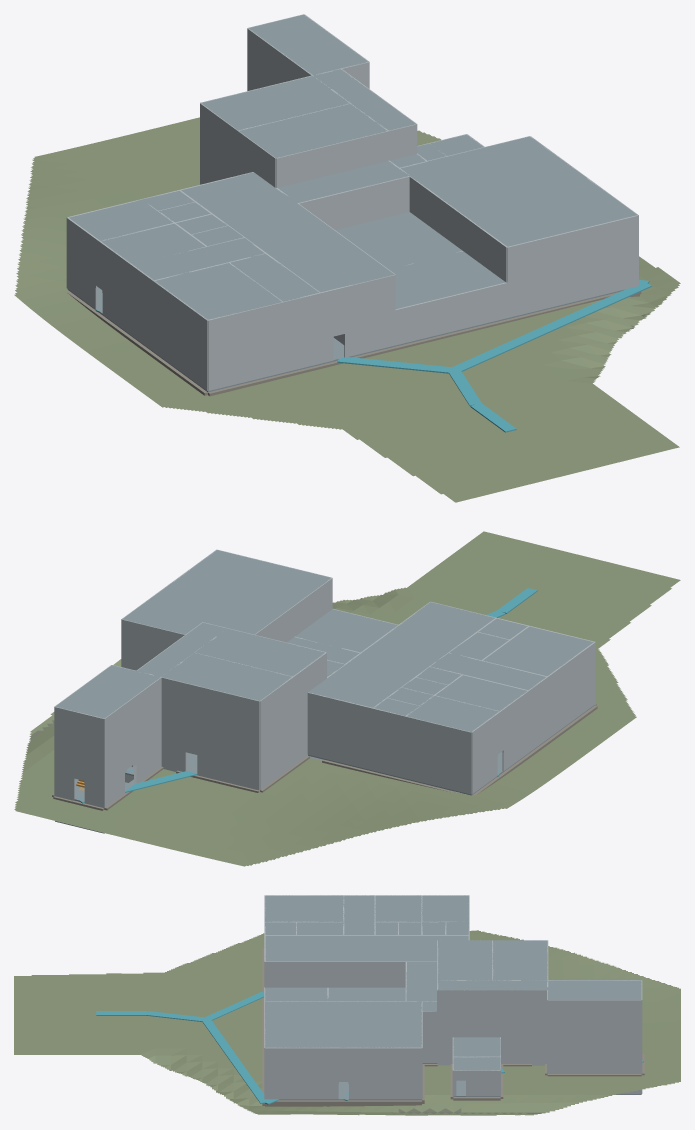
The model's file is open-circulation.glb.
3 views of the same model, one above another, from view 1: azimuth 30°, elevation 25°; view 2: azimuth 150°, elevation 25°; view 3: azimuth 270°, elevation 25° (orthographic). The views are drawn at different scales.
Visible parts, largest first — view 1: Saved editor macroterrain MANSION, Ceiling cap ballroom, Ceiling cap gallery, Wall ballroom S, Ceiling cap archive, Ceiling cap attic-store, Wall morning S, Wall drawing S, Ceiling cap suite-bed, Ceiling cap dining, Ceiling cap morning, Ceiling cap attic-stair (+30 smaller); view 2: Saved editor macroterrain MANSION, Ceiling cap ballroom, Ceiling cap gallery, Ceiling cap archive, Ceiling cap attic-store, Wall library N, Ceiling cap suite-bed, Ceiling cap attic-stair, Wall archive N, Ceiling cap morning, Wall guest-a N, Wall gallery N (+38 smaller); view 3: Saved editor macroterrain MANSION, Ceiling cap ballroom, Ceiling cap gallery, Flat route shell Wall ballroom E.001, Flat route shell Wall ballroom E, Flat route shell Wall gallery E.001, Wall upper-service E, Wall upper-service-stair E, Wall service-stair E, Wall attic-passage E, Ceiling cap archive, Ceiling cap attic-store (+20 smaller).
Boxes of the visible parts, <box> form: Saved editor macroterrain MANSION: <box>14,117,680,502</box>; Ceiling cap ballroom: <box>401,136,637,246</box>; Ceiling cap gallery: <box>181,172,394,292</box>; Wall ballroom S: <box>507,215,638,317</box>; Ceiling cap archive: <box>201,75,349,130</box>; Ceiling cap attic-store: <box>239,104,387,158</box>; Wall morning S: <box>395,282,507,345</box>; Wall drawing S: <box>208,328,320,390</box>; Ceiling cap suite-bed: <box>154,262,281,319</box>; Ceiling cap dining: <box>335,212,462,269</box>; Ceiling cap morning: <box>389,251,505,309</box>; Ceiling cap attic-stair: <box>248,14,368,75</box>; Saved editor macroterrain MANSION: <box>14,531,680,866</box>; Ceiling cap ballroom: <box>122,550,330,634</box>; Ceiling cap gallery: <box>308,602,494,707</box>; Ceiling cap archive: <box>162,653,291,700</box>; Ceiling cap attic-store: <box>195,628,324,676</box>; Wall library N: <box>372,739,471,794</box>; Ceiling cap suite-bed: <box>483,626,593,676</box>; Ceiling cap attic-stair: <box>55,665,160,718</box>; Wall archive N: <box>161,677,259,727</box>; Ceiling cap morning: <box>295,609,397,652</box>; Wall guest-a N: <box>405,716,471,763</box>; Wall gallery N: <box>307,692,372,739</box>; Saved editor macroterrain MANSION: <box>14,930,680,1115</box>; Ceiling cap ballroom: <box>265,1001,421,1047</box>; Ceiling cap gallery: <box>265,935,468,961</box>; Flat route shell Wall ballroom E.001: <box>265,1047,338,1099</box>; Flat route shell Wall ballroom E: <box>348,1047,421,1099</box>; Flat route shell Wall gallery E.001: <box>265,961,416,987</box>; Wall upper-service E: <box>422,1011,546,1037</box>; Wall upper-service-stair E: <box>547,1021,641,1047</box>; Wall service-stair E: <box>547,1047,641,1072</box>; Wall attic-passage E: <box>437,990,547,1011</box>; Ceiling cap archive: <box>492,940,547,980</box>; Ceiling cap attic-store: <box>437,940,492,980</box>.
Bounding box in the file's own units: 55 × 13.36 × 85.
